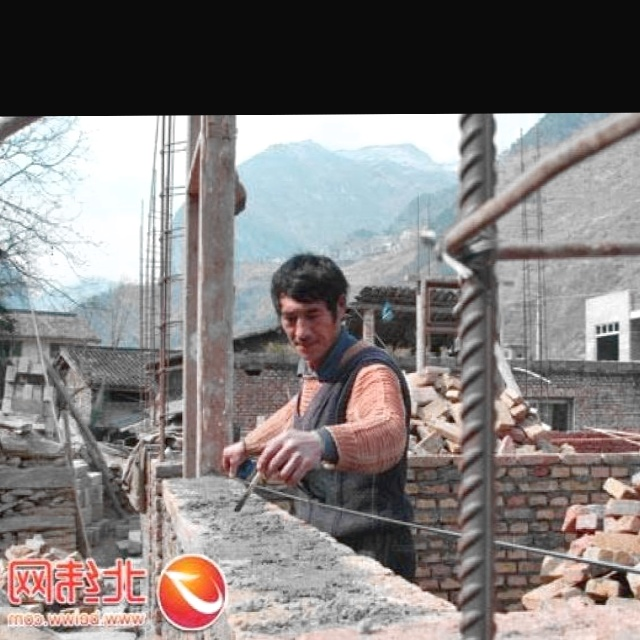Sin_Casco_Mascarrilla: (268, 245, 353, 360)
